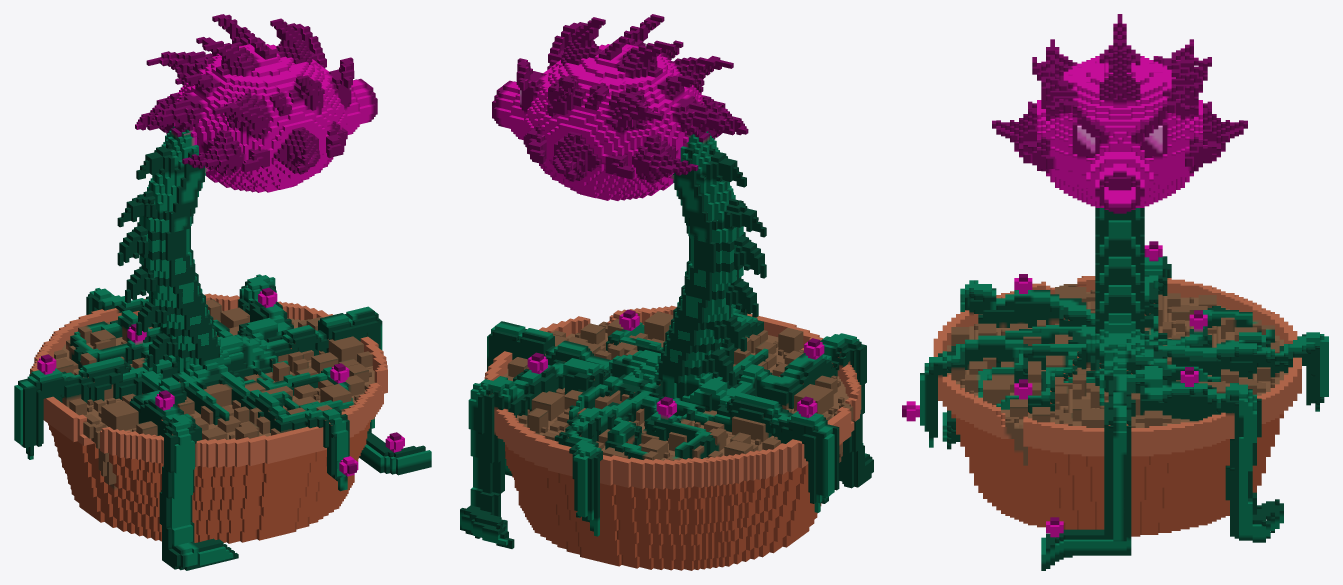
Rendered from TiraPinchosAnim.dae.
The picture shows the model from 3 angles, left to right: view 1: azimuth 30°, elevation 25°; view 2: azimuth 150°, elevation 25°; view 3: azimuth 270°, elevation 25°; orthographic projection. The views are drawn at different scales.
Visible parts, largest first — view 1: Node-local, Node (1)-local, Node (3)-local, Node (2)-local; view 2: Node-local, Node (1)-local, Node (3)-local, Node (2)-local; view 3: Node-local, Node (1)-local, Node (2)-local, Node (3)-local.
Part boxes in pixels (x1,y1,x2,y2): Node-local: [14, 274, 431, 570]; Node (1)-local: [117, 14, 377, 232]; Node (3)-local: [117, 212, 202, 304]; Node (2)-local: [136, 284, 220, 367]; Node-local: [460, 305, 873, 570]; Node (1)-local: [492, 14, 766, 243]; Node (3)-local: [676, 220, 766, 318]; Node (2)-local: [657, 295, 746, 385]; Node-local: [902, 241, 1328, 570]; Node (1)-local: [992, 14, 1247, 213]; Node (2)-local: [1095, 244, 1144, 333]; Node (3)-local: [1095, 208, 1144, 260].
Bounding box in the file's own units: 96 × 115 × 95.
Materials: 4 (4 with a texture image).
